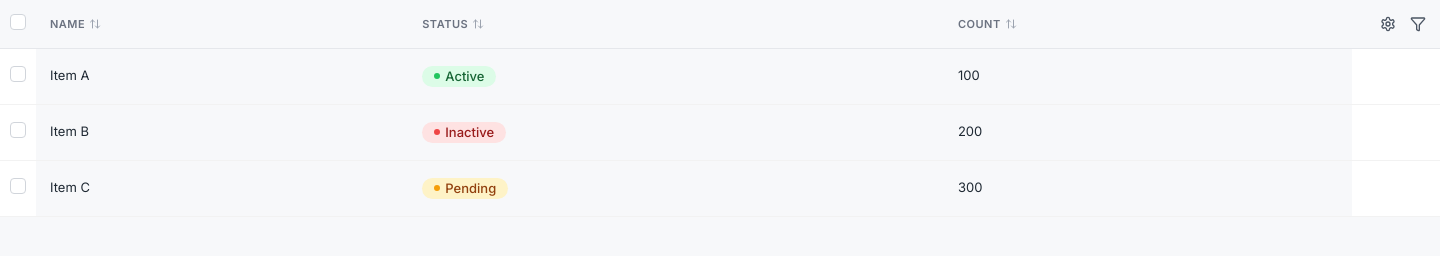
Scenario: ServerTable › filter toggle › shows filter row when filter button is clicked
Click the button titled "Show filters".
click(1418, 24)  # box [1404,10,1432,38]
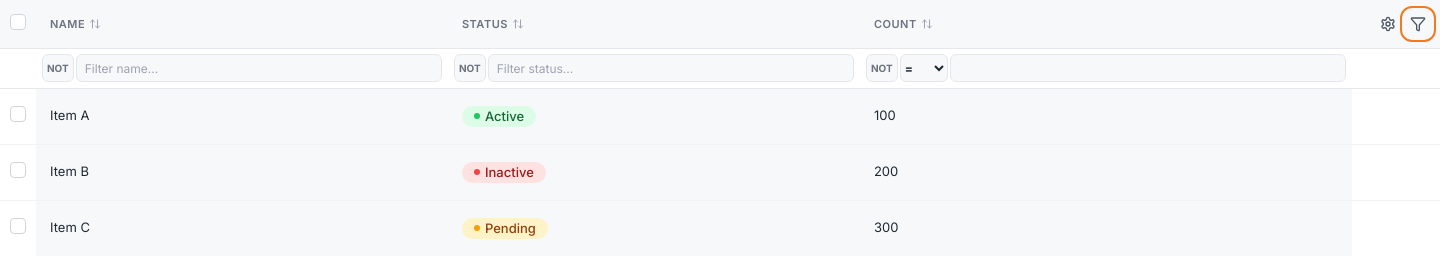
Check: the field with placeholder "Filter name..." is shown, box [76,54,442,82]
